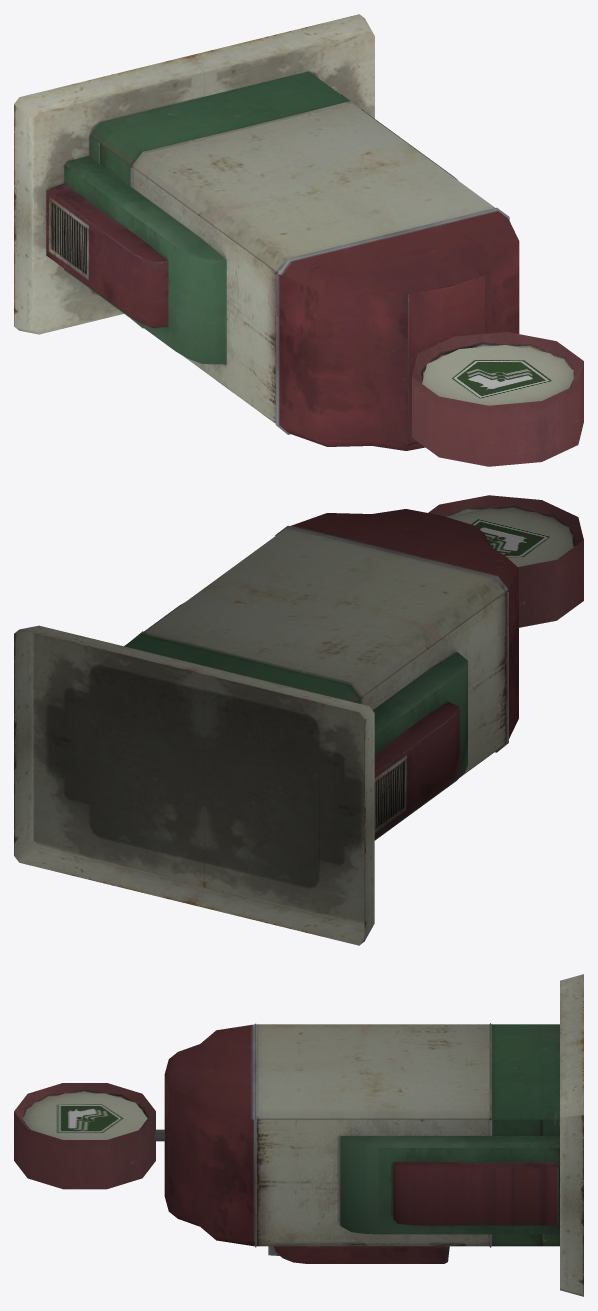
File: mule.glb
3 views of the same model, one above another, from view 1: azimuth 30°, elevation 25°; view 2: azimuth 150°, elevation 25°; view 3: azimuth 270°, elevation 25° (orthographic). The views are drawn at different scales.
Visible parts, largest first — view 1: Object_3, Object_4, Object_5; view 2: Object_3, Object_4, Object_5; view 3: Object_3, Object_4, Object_5.
Boxes of the visible parts, x1,y1,x2,y2 form: Object_3: (14,14,519,450); Object_4: (412,332,583,466); Object_5: (422,345,573,405); Object_3: (14,509,518,945); Object_4: (428,495,583,627); Object_5: (446,508,573,566); Object_3: (164,974,583,1296); Object_4: (14,1083,165,1189); Object_5: (22,1093,147,1139).
Bounding box in the file's own units: 170 × 108 × 296.
4 materials, 4 textured.
